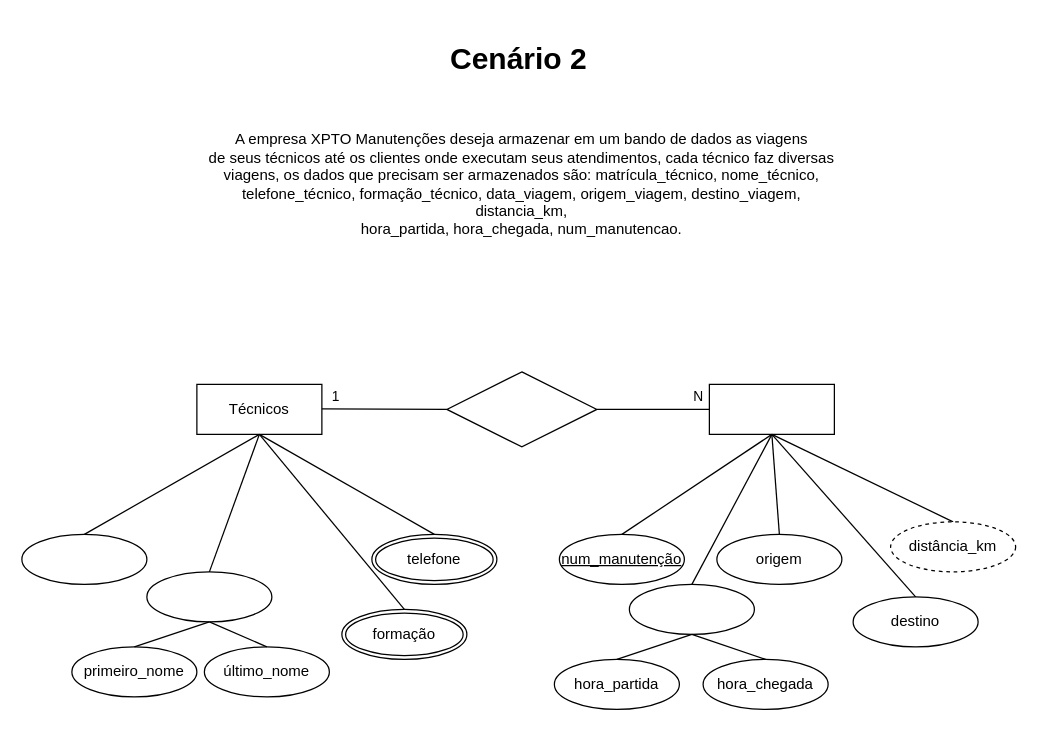
Image size: 1038x731. Some labels were removed from this diagram. Each missing label, with the centre of its shape:
"datas" belongs at pixel 691 608.
"Faz" belongs at pixel 521 409.
"matrícula_técnico" belongs at pixel 84 558.
"nome" belongs at pixel 209 596.
"Viagens" belongs at pixel 771 408.
